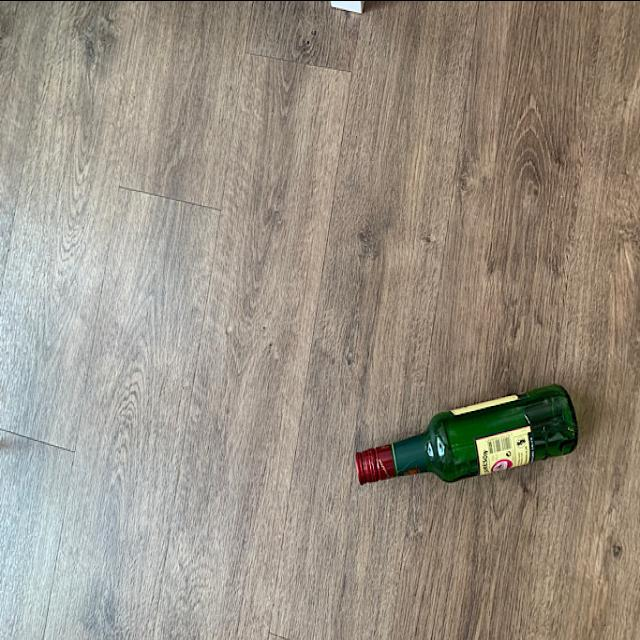litter: (348, 376, 582, 486)
